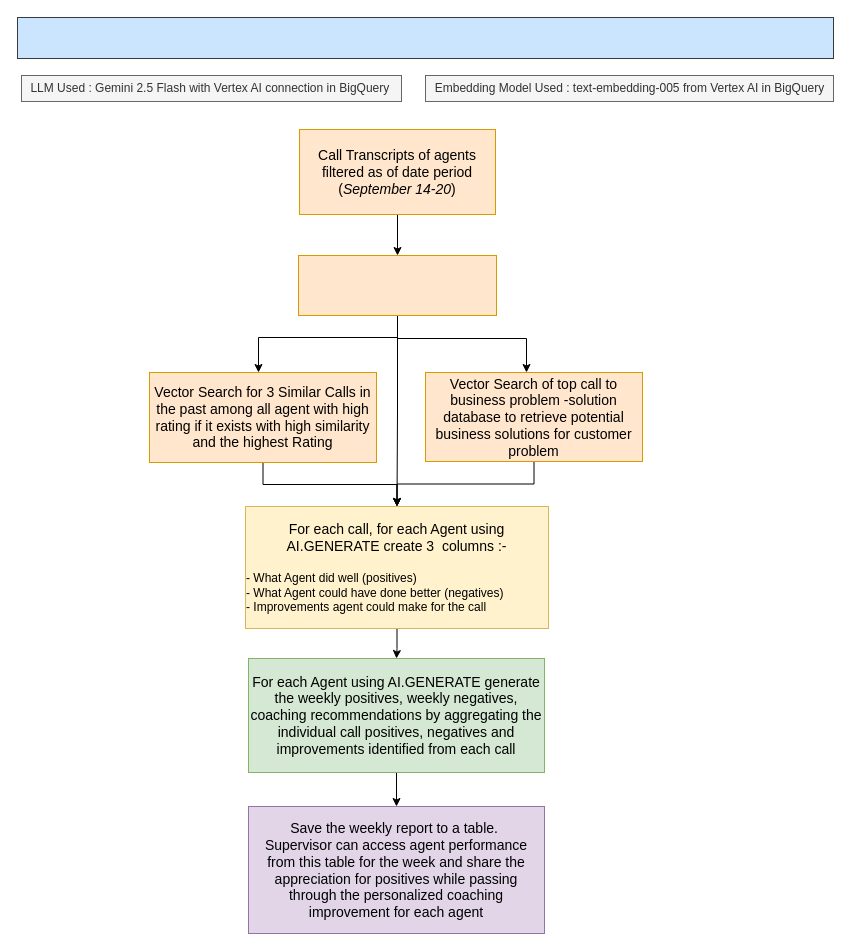
This 851x951 diagram has some shape labels left out. The centre of each missing label's shape, as x and y in pixels:
Action 2 : Agent Performance Evaluation: (425,37)
Generate Embeddings for all the call transcripts: (397,285)
